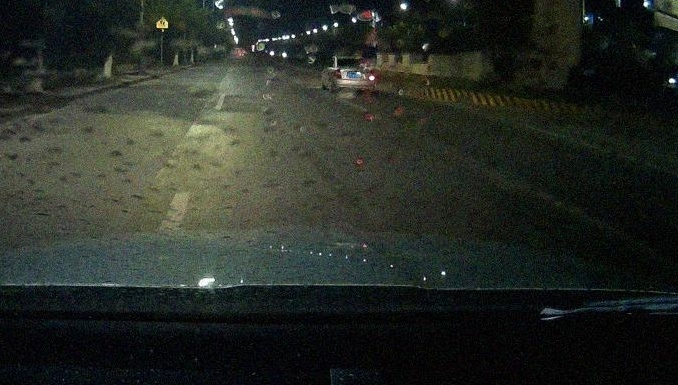L_light: (334, 69, 342, 79)
R_light: (369, 71, 375, 80)
T_light: (349, 59, 355, 60)
night-right: (334, 57, 375, 96)
